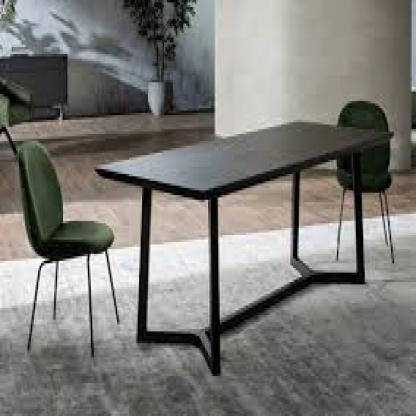Dining Table: (16, 96, 401, 386)
